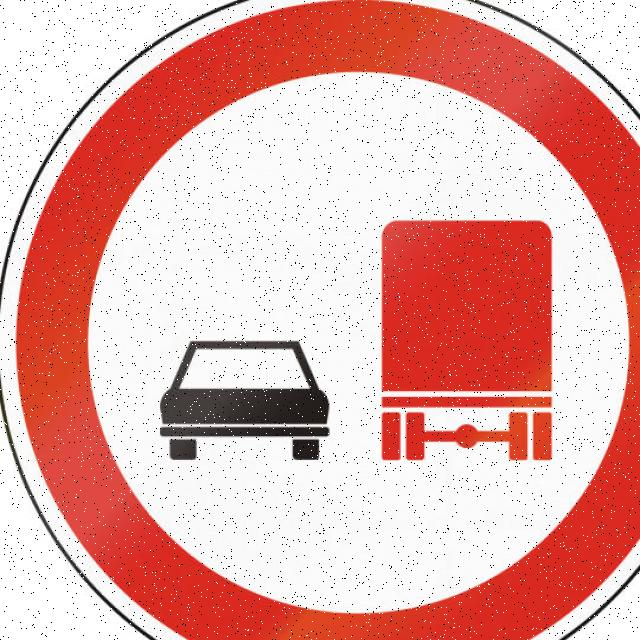no_passing: (13, 0, 640, 640)
